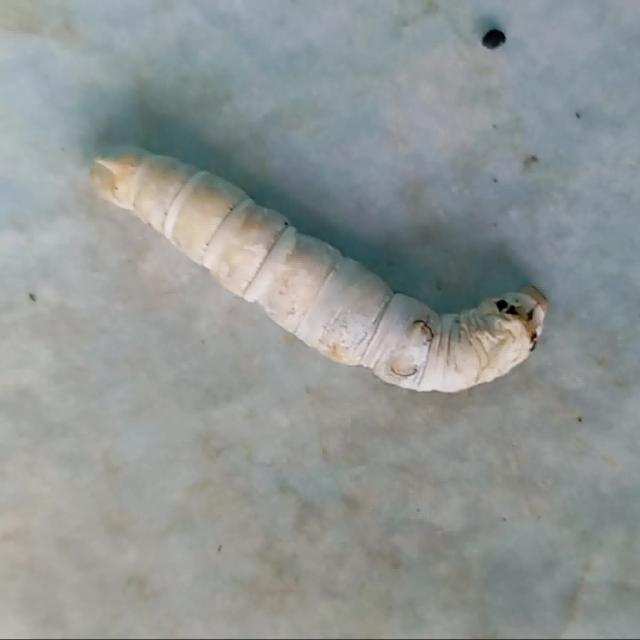Grasserie: (82, 130, 550, 415)
